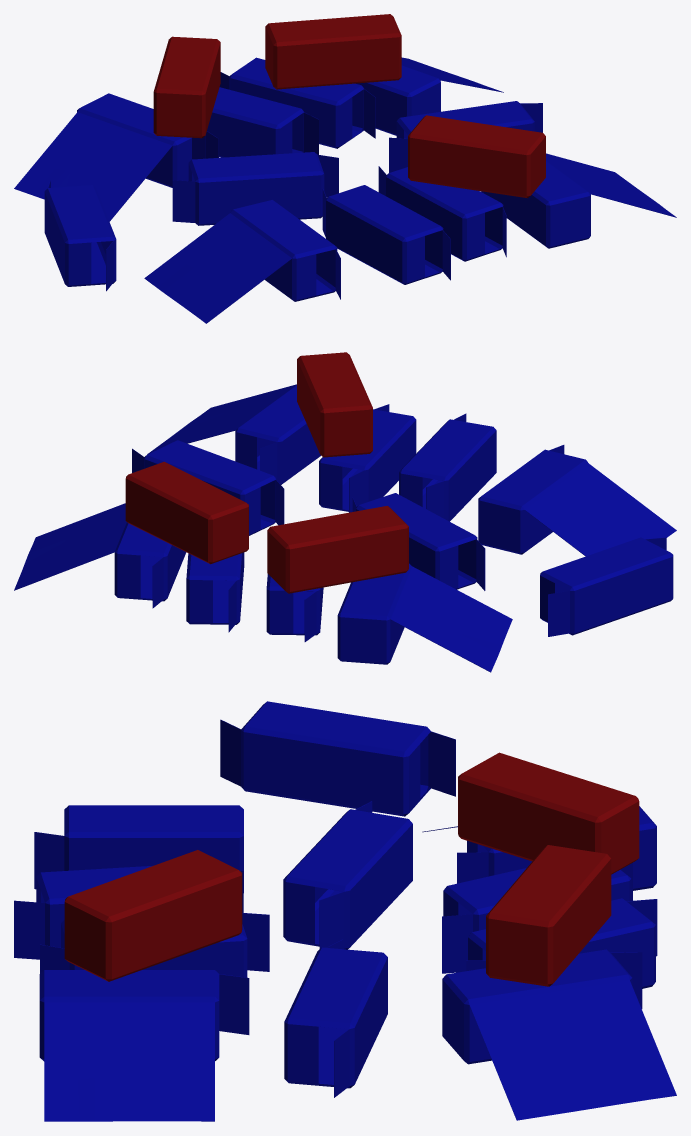
Rendered from Container.fbx.
3 renders of one model, top to bottom at view 1: azimuth 30°, elevation 25°; view 2: azimuth 150°, elevation 25°; view 3: azimuth 270°, elevation 25°, orthographic. The views are drawn at different scales.
Parts seen in each view (by area): view 1: Cube.576, Cube.580, Cube.585, Cube.570, Cube.582, Cube.577, Cube.568, Cube.586, Cube.569, Cube.583, Cube.581, Cube.579 (+2 smaller); view 2: Cube.576, Cube.580, Cube.583, Cube.586, Cube.578, Cube.582, Cube.568, Cube.577, Cube.570, Cube.569, Cube.585, Cube.584 (+2 smaller); view 3: Cube.568, Cube.578, Cube.586, Cube.570, Cube.583, Cube.585, Cube.582, Cube.584, Cube.576, Cube.581, Cube.577, Cube.569 (+2 smaller).
Boxes of the visible parts, x1,y1,x2,y2 form: Cube.576: (144, 200, 340, 323); Cube.580: (14, 93, 218, 221); Cube.585: (172, 152, 338, 225); Cube.570: (408, 115, 545, 198); Cube.582: (265, 14, 401, 89); Cube.577: (322, 185, 450, 284); Cube.568: (481, 153, 676, 248); Cube.586: (44, 180, 116, 291); Cube.569: (378, 166, 506, 261); Cube.583: (153, 36, 220, 138); Cube.581: (207, 87, 318, 157); Cube.579: (219, 57, 375, 148); Cube.576: (478, 445, 676, 556); Cube.580: (337, 563, 512, 672); Cube.583: (267, 506, 408, 593); Cube.586: (540, 537, 673, 636); Cube.578: (14, 503, 186, 608); Cube.582: (125, 461, 248, 564); Cube.568: (147, 384, 320, 484); Cube.577: (399, 413, 496, 521); Cube.570: (297, 352, 372, 457); Cube.569: (319, 404, 416, 512); Cube.585: (352, 493, 485, 590); Cube.584: (132, 440, 284, 535); Cube.568: (39, 970, 249, 1121); Cube.578: (442, 949, 676, 1120); Cube.586: (220, 701, 455, 816); Cube.570: (64, 850, 242, 981); Cube.583: (458, 752, 639, 874); Cube.585: (283, 801, 412, 949); Cube.582: (486, 845, 611, 986); Cube.584: (284, 939, 387, 1097); Cube.576: (34, 805, 243, 892); Cube.581: (442, 863, 632, 973); Cube.577: (14, 866, 243, 959); Cube.569: (40, 913, 269, 977).
Size of the model in its own units: 4703 by 803 by 3693.
